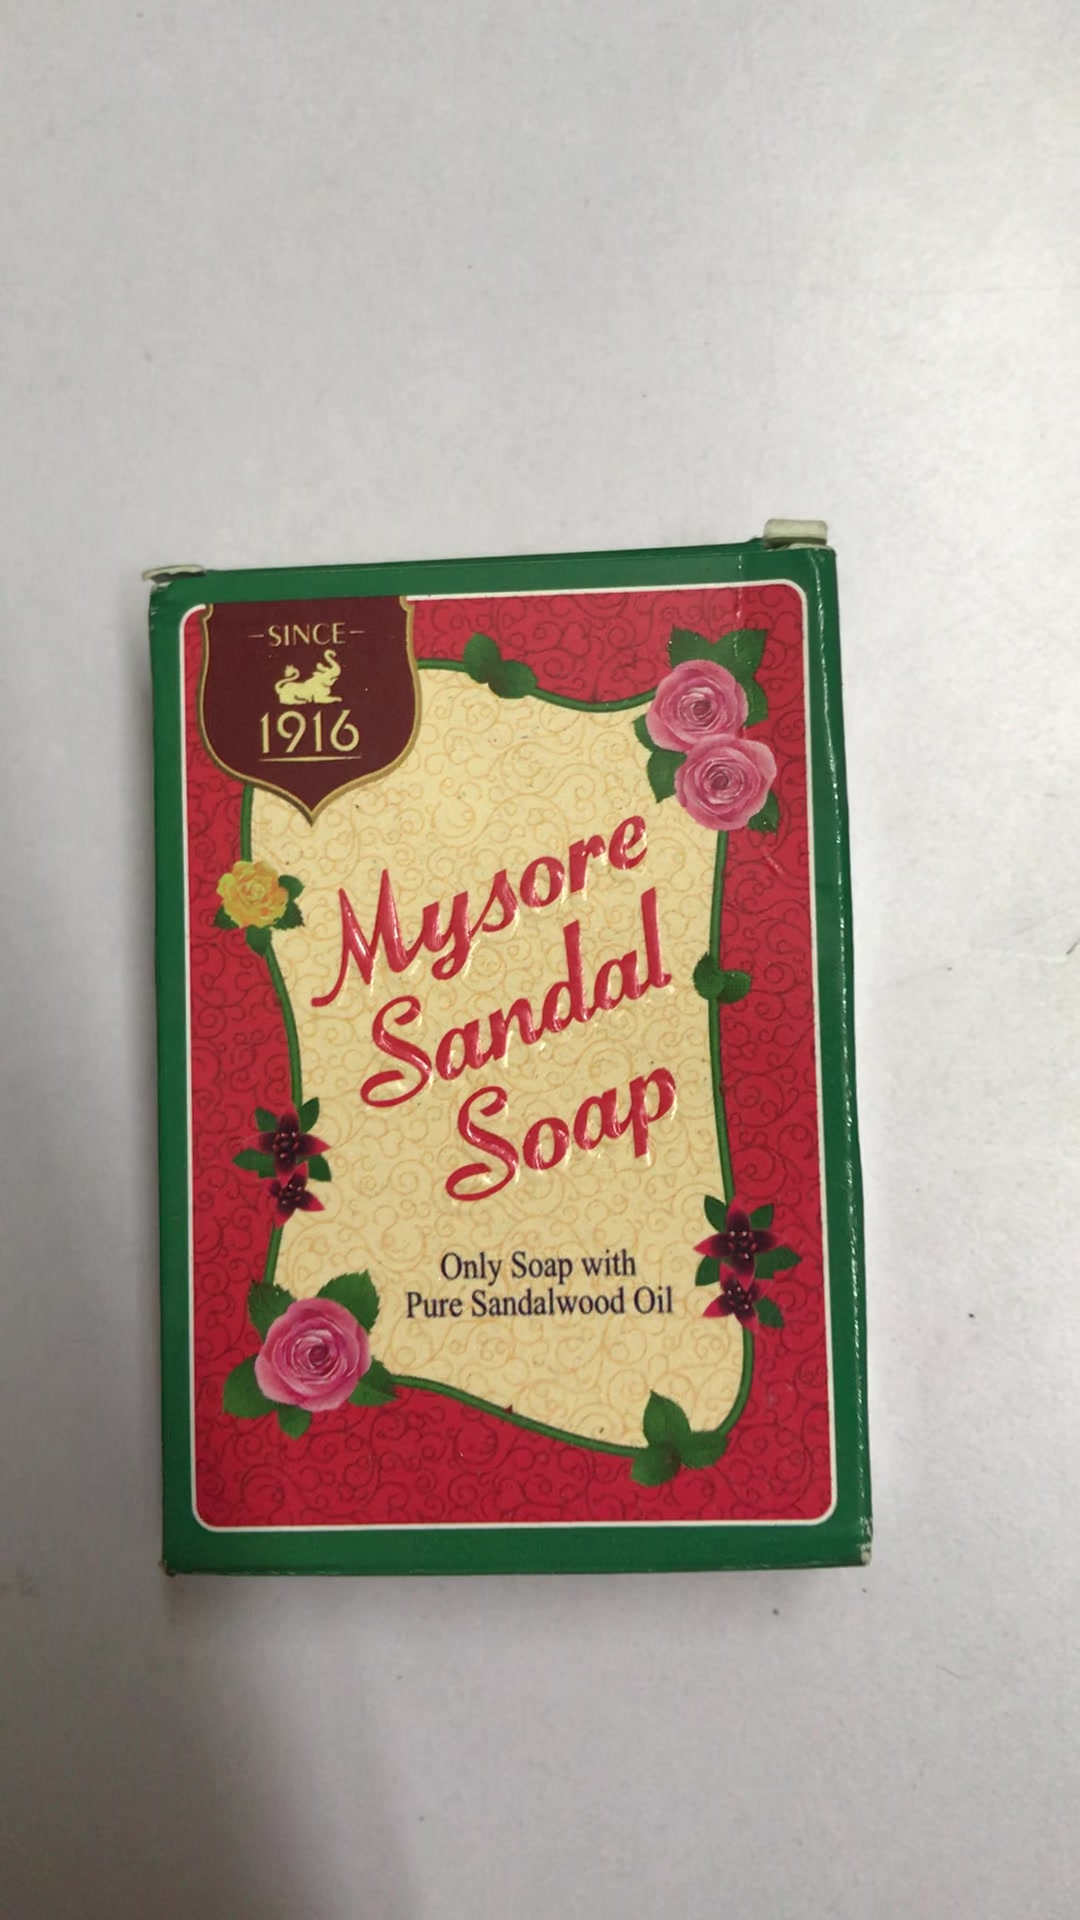mysore sandal soap: (153, 545, 874, 1563)
